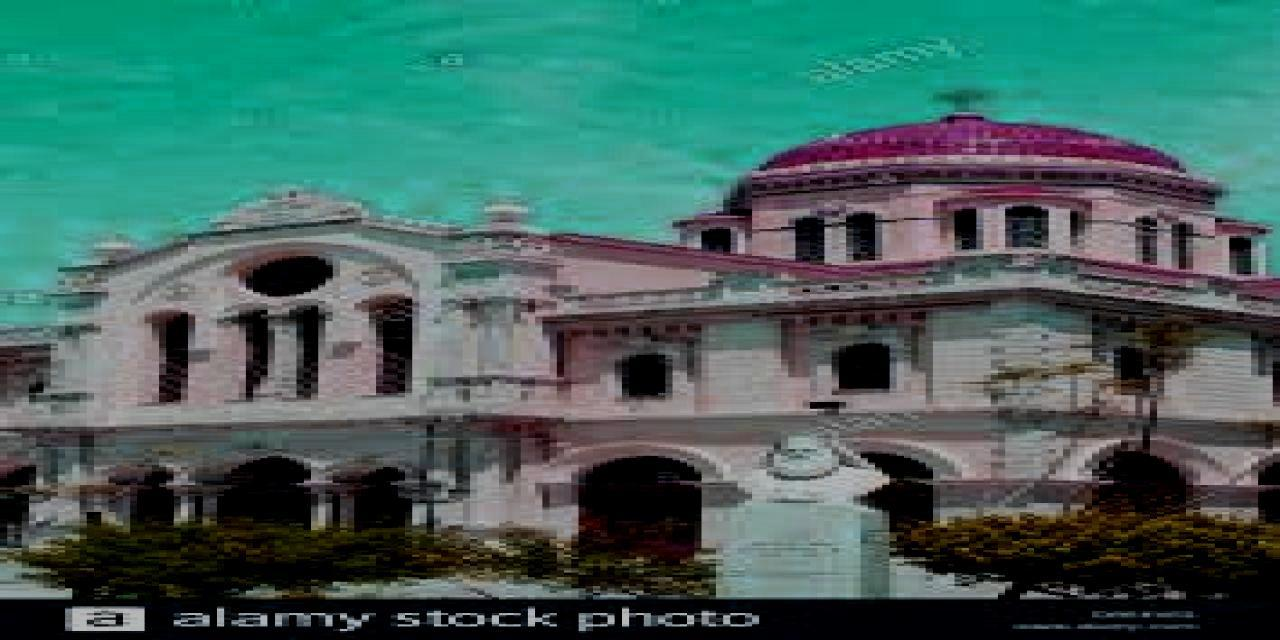Agios Minas: (11, 82, 1280, 566)
